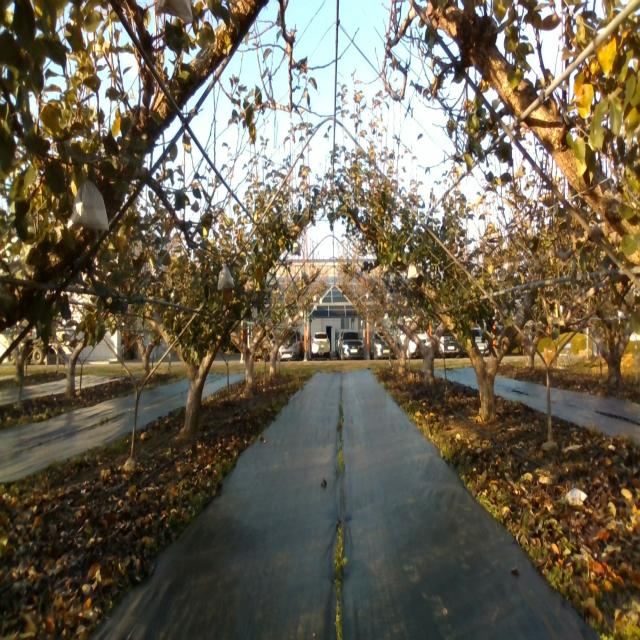pearbags: (68, 180, 110, 232), (217, 263, 235, 292), (407, 261, 417, 280)
